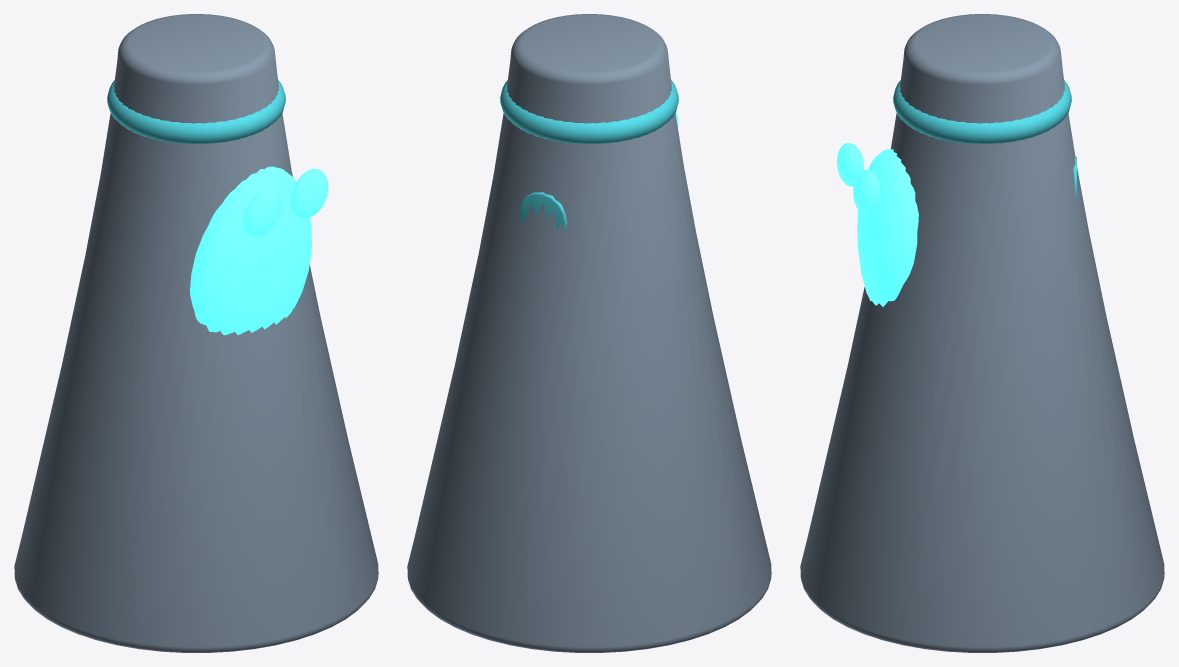
The model's file is ooze_v6.glb.
3 views of the same model, side by side, from view 1: azimuth 30°, elevation 25°; view 2: azimuth 150°, elevation 25°; view 3: azimuth 270°, elevation 25° (orthographic).
Visible parts, largest first — view 1: SLIME_COLUMN_PRIMARY, SLIME_CORE_EMISSIVE, SLIME_RING_ACCENT.002, EYE_EMISSIVE.001, EYE_EMISSIVE; view 2: SLIME_COLUMN_PRIMARY, SLIME_RING_ACCENT.002, DORSAL_SPINE_ACCENT.003; view 3: SLIME_COLUMN_PRIMARY, SLIME_CORE_EMISSIVE, SLIME_RING_ACCENT.002, EYE_EMISSIVE.001, EYE_EMISSIVE.
Part boxes in pixels (x1=…): SLIME_COLUMN_PRIMARY: x1=14, y1=14, x2=378, y2=652; SLIME_CORE_EMISSIVE: x1=190, y1=166, x2=311, y2=335; SLIME_RING_ACCENT.002: x1=107, y1=80, x2=285, y2=144; EYE_EMISSIVE.001: x1=290, y1=169, x2=328, y2=218; EYE_EMISSIVE: x1=243, y1=189, x2=281, y2=237; SLIME_COLUMN_PRIMARY: x1=407, y1=14, x2=771, y2=652; SLIME_RING_ACCENT.002: x1=500, y1=80, x2=678, y2=144; DORSAL_SPINE_ACCENT.003: x1=519, y1=192, x2=567, y2=230; SLIME_COLUMN_PRIMARY: x1=800, y1=14, x2=1164, y2=652; SLIME_CORE_EMISSIVE: x1=857, y1=149, x2=918, y2=306; SLIME_RING_ACCENT.002: x1=893, y1=80, x2=1071, y2=144; EYE_EMISSIVE.001: x1=853, y1=170, x2=880, y2=213; EYE_EMISSIVE: x1=837, y1=143, x2=863, y2=186.
Size of the model in its own units: 1.42 by 2.31 by 1.42.
